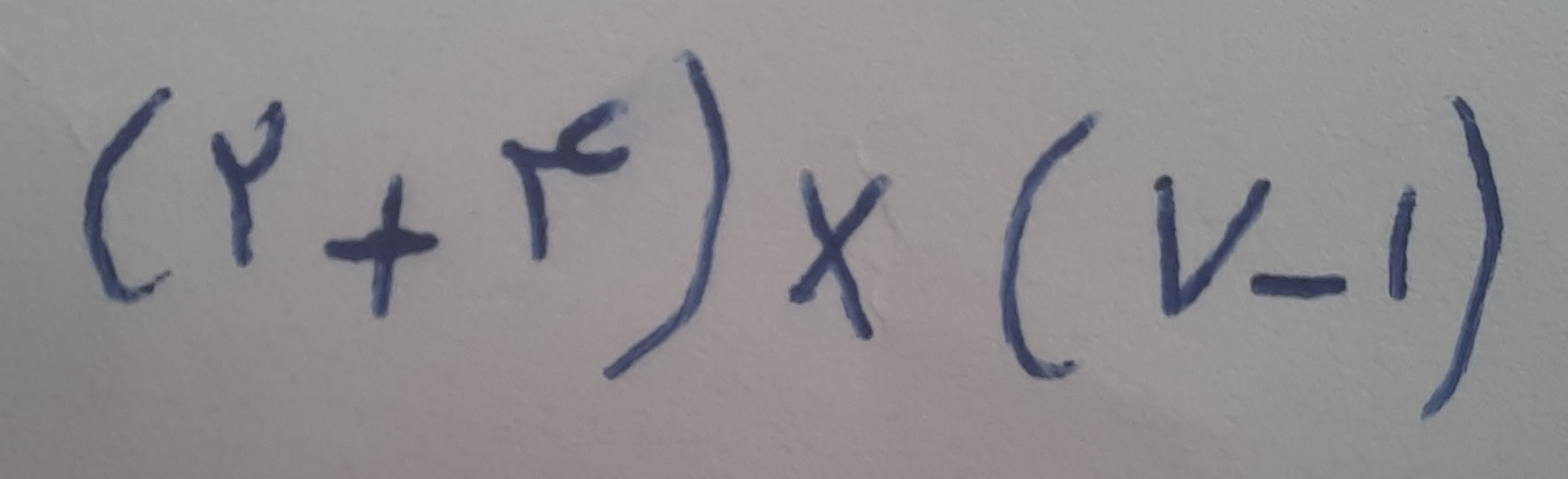character: (597, 46, 734, 388), (1414, 88, 1508, 425), (994, 106, 1106, 385), (496, 88, 634, 267), (78, 80, 177, 312), (783, 162, 896, 346), (319, 167, 442, 325), (1149, 168, 1276, 320), (206, 96, 286, 274), (1380, 175, 1421, 306), (1249, 267, 1352, 302)
